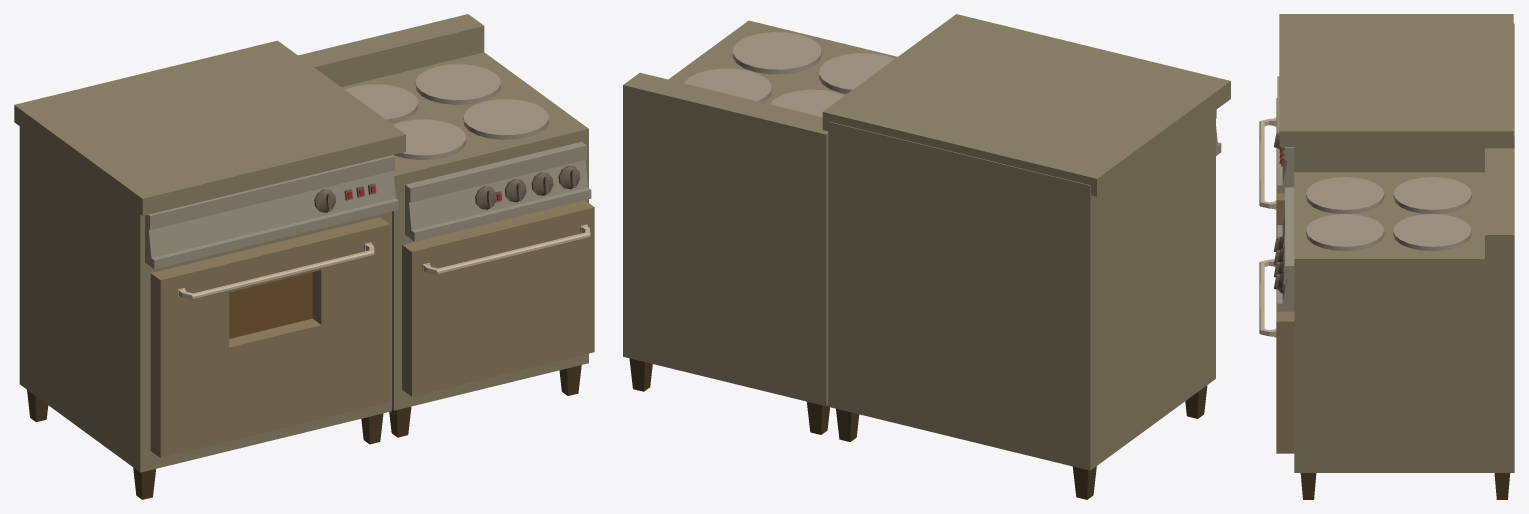
Rendered from oven 1.fbx.
3 views of the same model, side by side, from view 1: azimuth 30°, elevation 25°; view 2: azimuth 150°, elevation 25°; view 3: azimuth 270°, elevation 25° (orthographic). The views are drawn at different scales.
Visible parts, largest first — view 1: polySurface105; view 2: polySurface105; view 3: polySurface105.
Boxes of the visible parts, x1=… form: polySurface105: x1=14, y1=14, x2=594, y2=499; polySurface105: x1=623, y1=14, x2=1230, y2=499; polySurface105: x1=1259, y1=14, x2=1514, y2=499.
Bounding box in the file's own units: 11.71 × 7.72 × 6.24.
